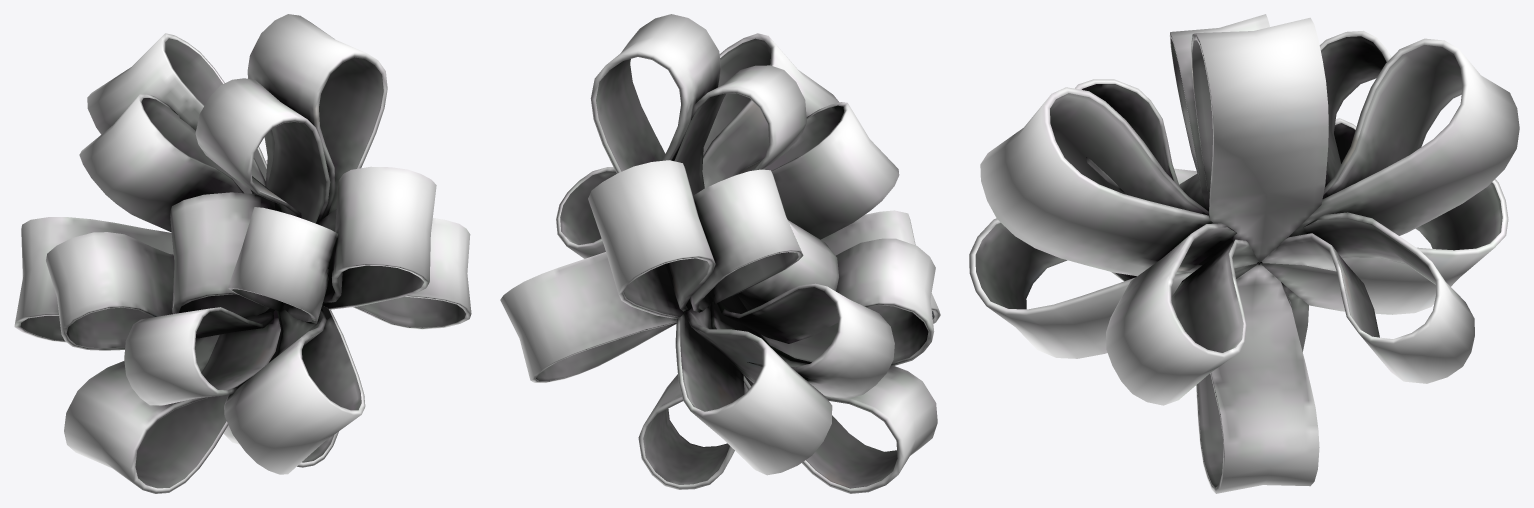
The model's file is SurvivorMale_Head_PartyBow_LOD0.glb.
3 views of the same model, side by side, from view 1: azimuth 30°, elevation 25°; view 2: azimuth 150°, elevation 25°; view 3: azimuth 270°, elevation 25° (orthographic). The views are drawn at different scales.
Parts seen in each view (by area): view 1: Hoodie; view 2: Hoodie; view 3: Hoodie.
Part boxes in pixels (<box>): Hoodie: <box>14,14,471,493</box>; Hoodie: <box>500,14,940,493</box>; Hoodie: <box>969,14,1519,493</box>.
Bounding box in the file's own units: 0.1195 × 0.1292 × 0.1348.
1 material, 1 textured.
